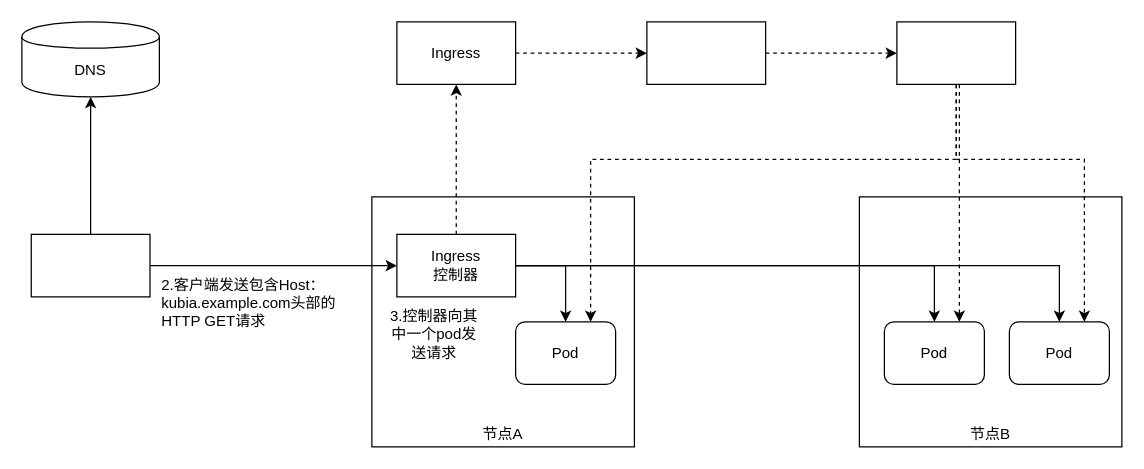
The diagram is 1144 pixels wide and 469 high, and some of its shapes have lost their labels. Here are the shapes that lost their labels. From the top down, the box of each, then its label:
(646, 21, 766, 84): 服务
(896, 21, 1016, 84): Endpoints
(30, 233, 150, 297): 客户端
